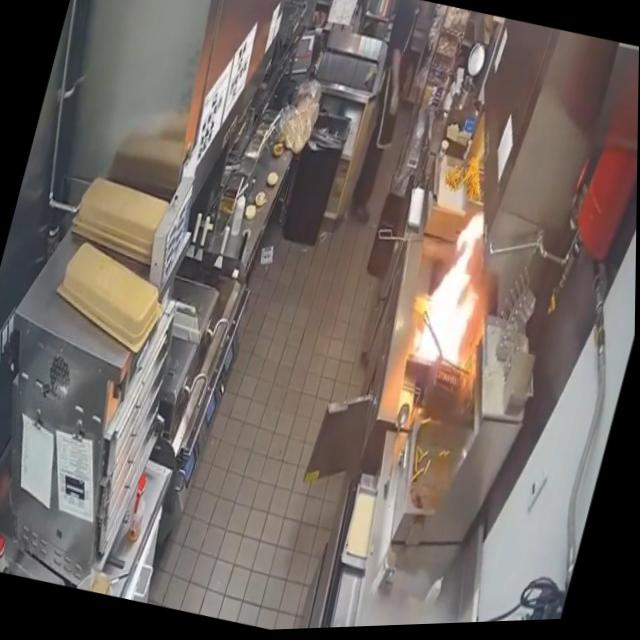fire: (407, 199, 509, 380)
